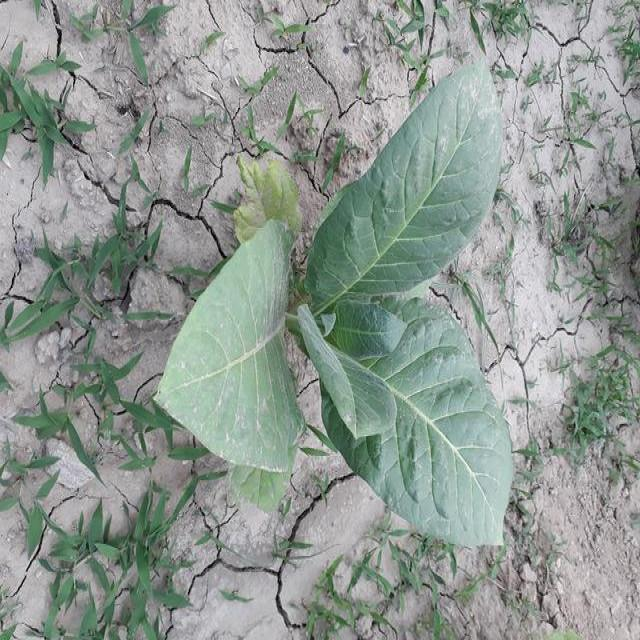crop: (156, 71, 530, 554)
